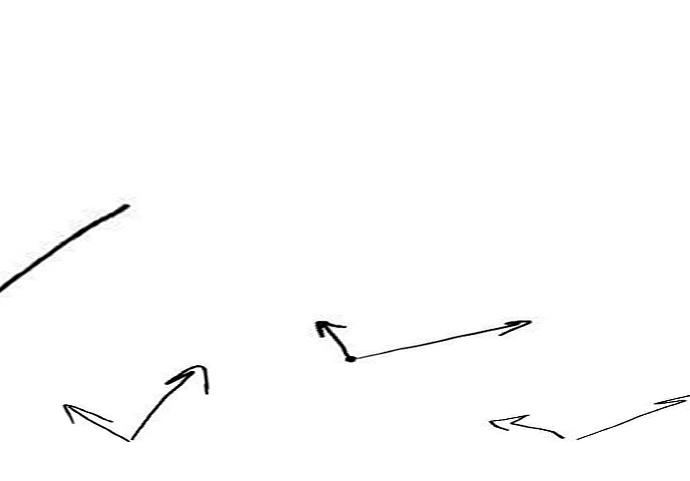arrow: (1, 204, 131, 288), (359, 317, 534, 361), (134, 366, 207, 438), (575, 394, 688, 440), (63, 401, 131, 441), (490, 413, 564, 439), (312, 319, 351, 357)
